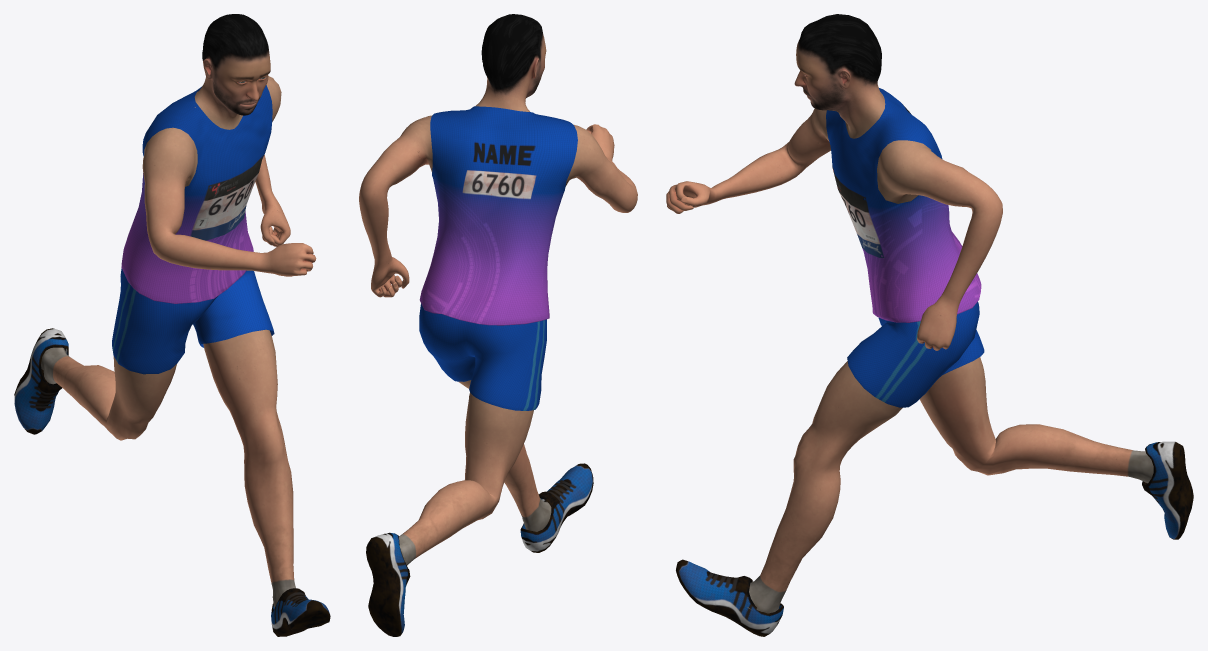
The picture shows the model from 3 angles, left to right: view 1: azimuth 30°, elevation 25°; view 2: azimuth 150°, elevation 25°; view 3: azimuth 270°, elevation 25°; orthographic projection. The views are drawn at different scales.
Parts seen in each view (by area): view 1: Sports_guy_High; view 2: Sports_guy_High; view 3: Sports_guy_High.
Boxes of the visible parts, x1,y1,x2,y2 form: Sports_guy_High: (14,14,330,636); Sports_guy_High: (359,14,637,636); Sports_guy_High: (666,14,1193,636).
Bounding box in the file's own units: 0.1511 × 0.4198 × 0.3281.
Materials: 1 (1 with a texture image).
